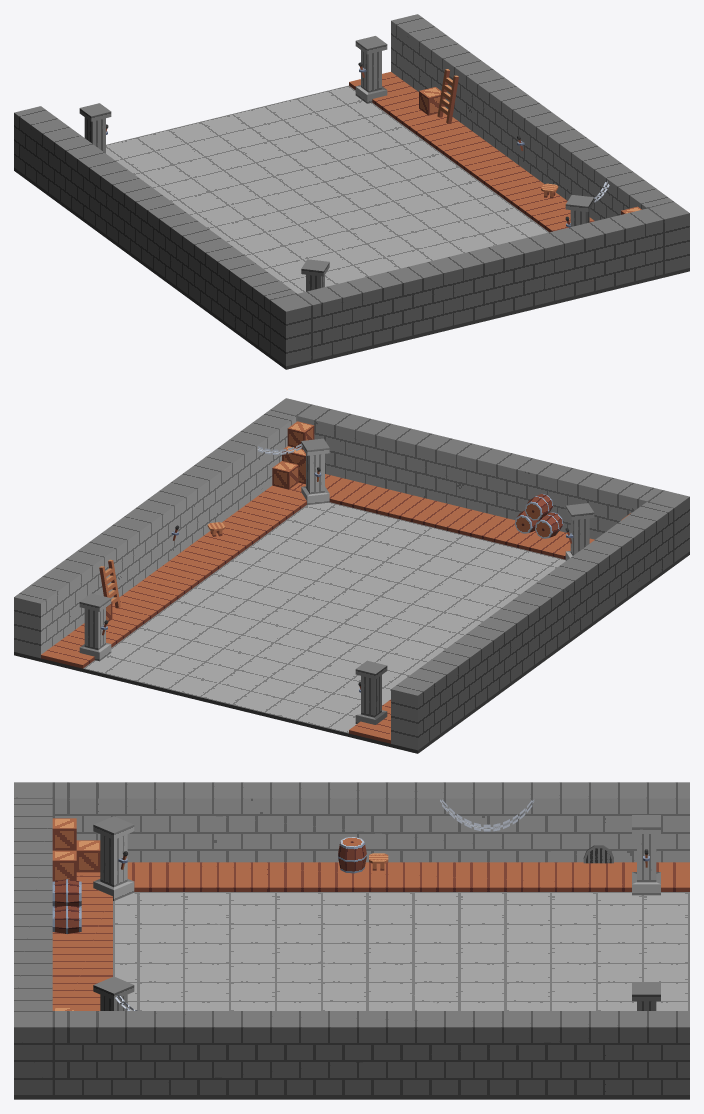
The model's file is dungeon_flat.gltf.
3 views of the same model, one above another, from view 1: azimuth 30°, elevation 25°; view 2: azimuth 150°, elevation 25°; view 3: azimuth 270°, elevation 25° (orthographic). The views are drawn at different scales.
Parts seen in each view (by area): view 1: walls, floor, woodfloor, column (×4), ladder; view 2: walls, floor, woodfloor, column (×4), barrel (×2), crate small2, ladder, crate small1; view 3: walls, floor, woodfloor, column (×4), barrel (×3), crate small3, crate small5, crate small4, plane, drain.
Boxes of the visible parts, box(x1,y1,x2,y2) form: walls: box(14, 14, 689, 366); floor: box(14, 85, 689, 369); woodfloor: box(349, 72, 594, 232); column (×4): box(79, 36, 594, 291); ladder: box(437, 69, 458, 123); walls: box(14, 398, 689, 750); floor: box(14, 502, 689, 753); woodfloor: box(41, 474, 594, 743); column (×4): box(79, 438, 594, 724); barrel (×2): box(525, 494, 563, 538); crate small2: box(272, 461, 298, 489); ladder: box(99, 559, 120, 608); crate small1: box(287, 421, 314, 449); walls: box(14, 782, 689, 1094); floor: box(14, 892, 689, 1099); woodfloor: box(52, 862, 689, 1010); column (×4): box(93, 815, 660, 1010); barrel (×3): box(52, 837, 366, 933); crate small3: box(52, 818, 76, 850); crate small5: box(76, 840, 100, 872); crate small4: box(52, 850, 76, 881); plane: box(440, 799, 534, 831); drain: box(583, 845, 613, 863).
Bounding box in the file's own units: 15 × 2.11 × 17.5.
1 material, 1 textured.
